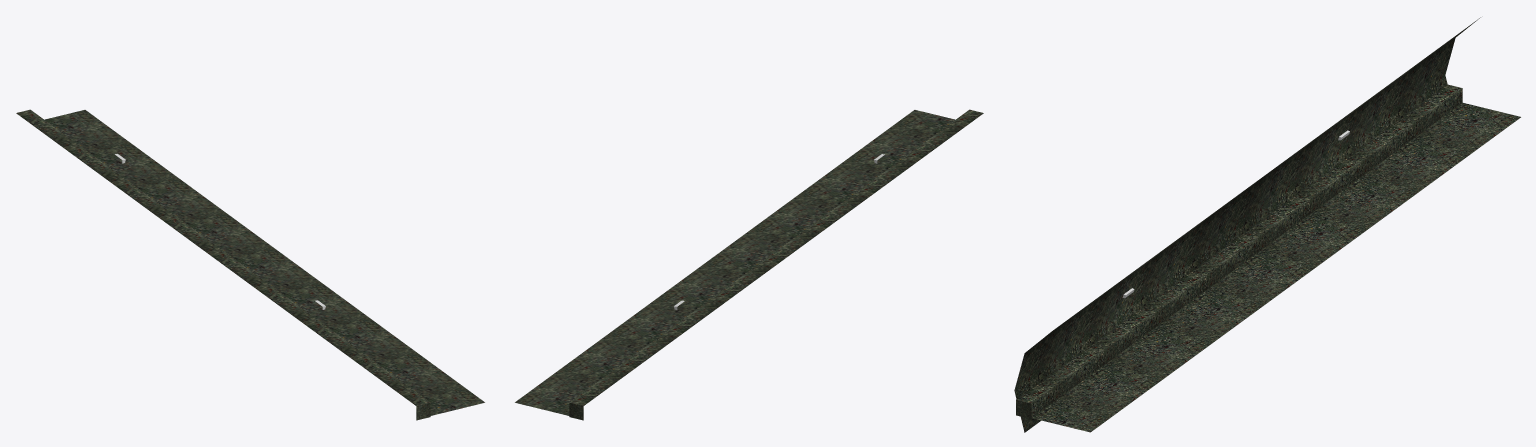
The model's file is OUSA00_R.glb.
The picture shows the model from 3 angles, left to right: view 1: azimuth 30°, elevation 25°; view 2: azimuth 150°, elevation 25°; view 3: azimuth 330°, elevation 25°; orthographic projection. The views are drawn at different scales.
Visible parts, largest first — view 1: Model; view 2: Model; view 3: Model.
Part boxes in pixels (x1=…): Model: x1=16, y1=109, x2=484, y2=420; Model: x1=515, y1=109, x2=983, y2=420; Model: x1=1014, y1=17, x2=1520, y2=432.
Size of the model in its own units: 10.21 by 15.31 by 100.
3 materials, 1 textured.
